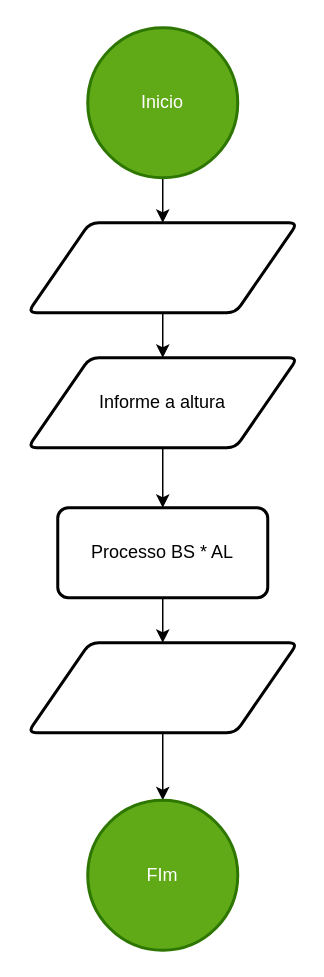
This 324x977 diagram has some shape labels left out. The shapes that lost their labels are listed below. From the top down, each one's box as (x1, y1, x2, y2) in pixels, then its label:
(26, 220, 298, 314): Informe a base
(26, 640, 298, 734): Resultado
